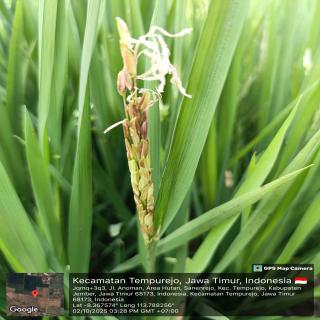Busuk-Bulir: (128, 103, 140, 120), (130, 117, 140, 136), (140, 110, 148, 130), (141, 118, 148, 139), (122, 119, 129, 140), (141, 139, 148, 158), (139, 157, 146, 168), (147, 206, 153, 215), (143, 127, 147, 134)
